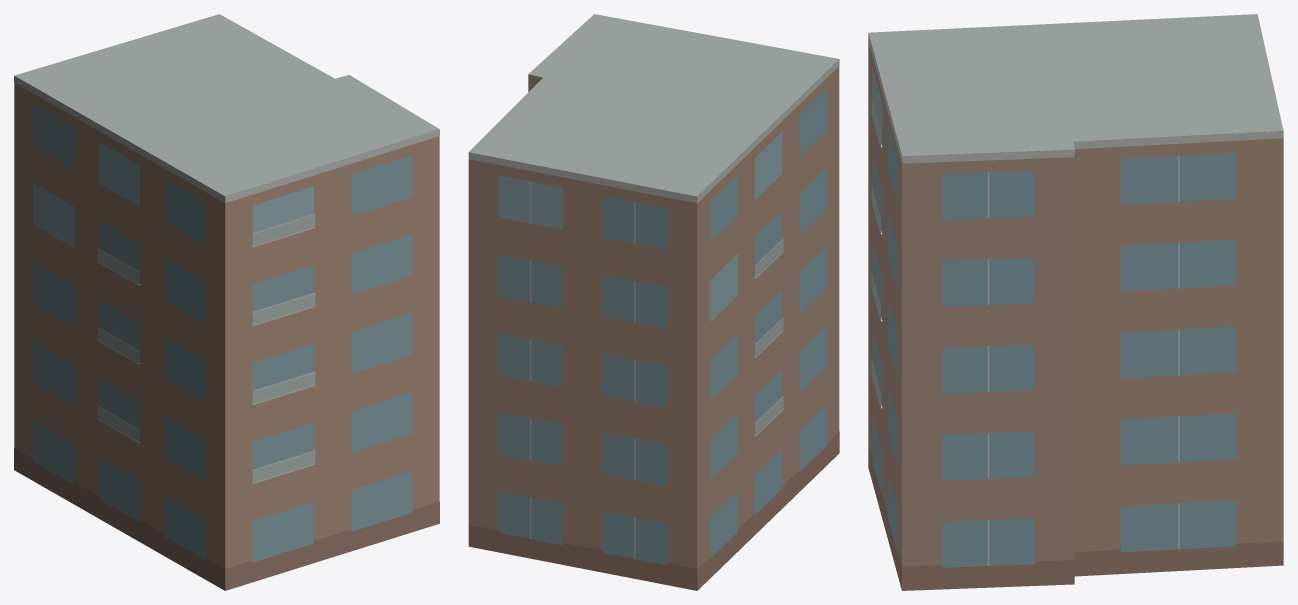
File: survey-upis-32653379.glb
3 renders of one model, left to right at view 1: azimuth 30°, elevation 25°; view 2: azimuth 150°, elevation 25°; view 3: azimuth 270°, elevation 25°, orthographic. The views are drawn at different scales.
Visible parts, largest first — view 1: survey-upis-32653379.tmp; view 2: survey-upis-32653379.tmp; view 3: survey-upis-32653379.tmp.
Boxes of the visible parts, <box> form: survey-upis-32653379.tmp: <box>14,14,439,590</box>; survey-upis-32653379.tmp: <box>468,14,839,590</box>; survey-upis-32653379.tmp: <box>868,14,1283,590</box>.
Size of the model in its own units: 9.9 by 14.1 by 12.21.
